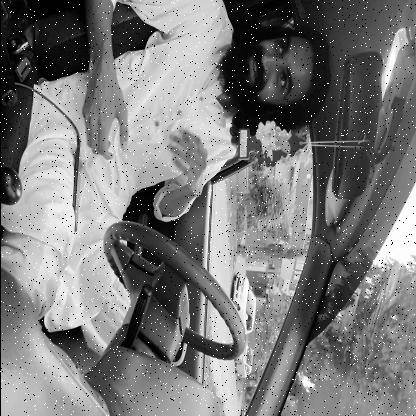no_seatbelt: (74, 21, 330, 211)
